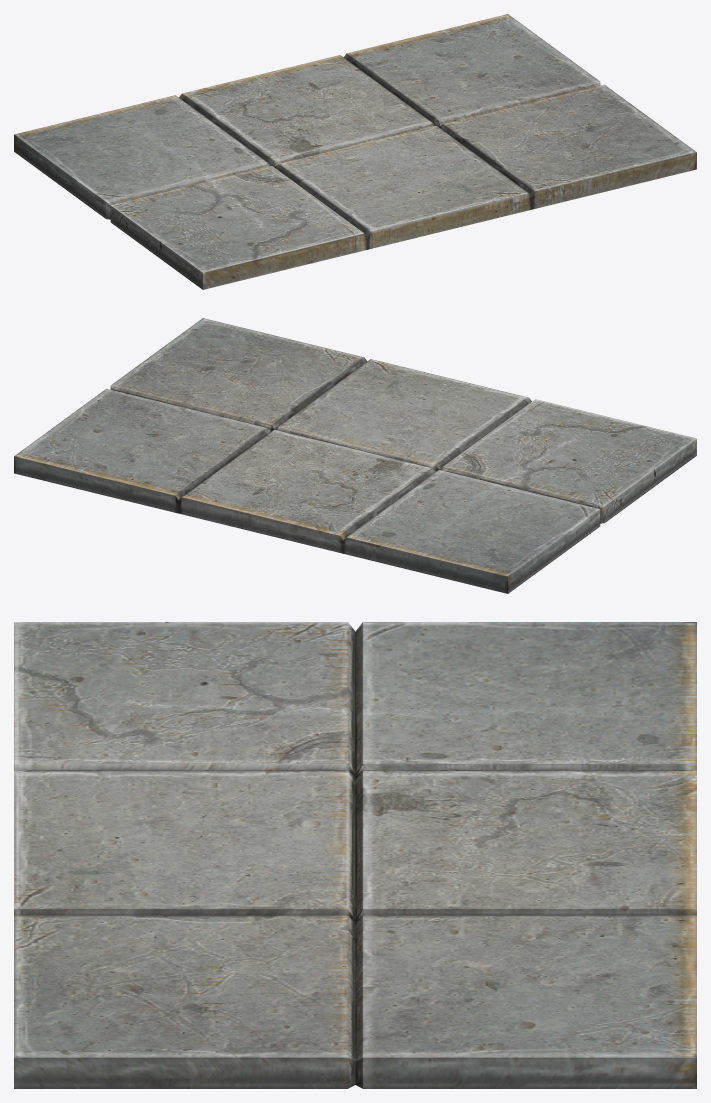
File: pavementA.FBX
3 renders of one model, top to bottom at view 1: azimuth 30°, elevation 25°; view 2: azimuth 150°, elevation 25°; view 3: azimuth 270°, elevation 25°, orthographic. The views are drawn at different scales.
Visible parts, largest first — view 1: pavementA; view 2: pavementA; view 3: pavementA.
Boxes of the visible parts, <box> form: pavementA: <box>14,14,696,289</box>; pavementA: <box>14,318,696,593</box>; pavementA: <box>14,622,696,1088</box>.
Bounding box in the file's own units: 90.58 × 3 × 60.
Materials: 1 (1 with a texture image).
